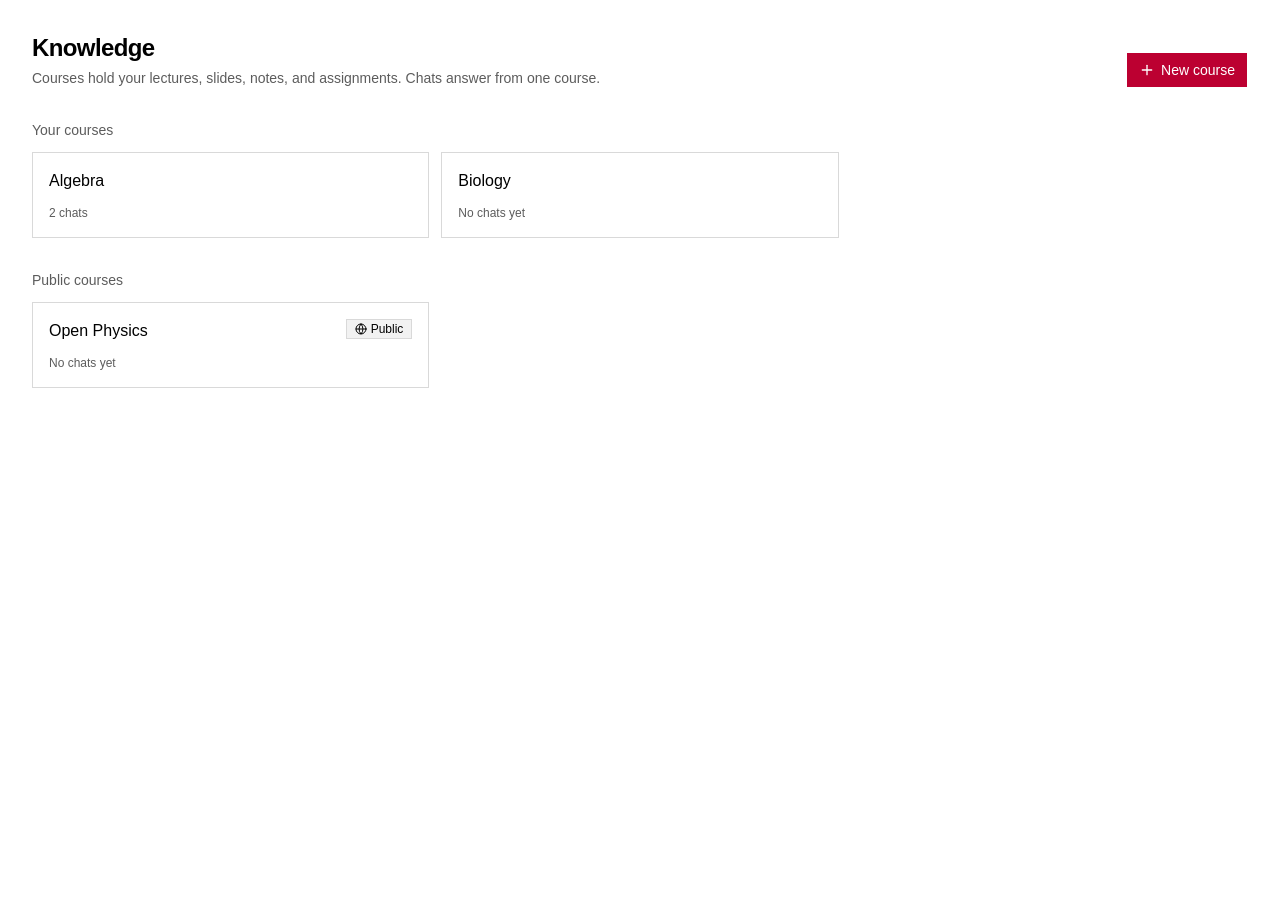
Test: KnowledgePage › creates a course and opens it
Click the button "New course": (1187, 70) [1126,52,1248,88]
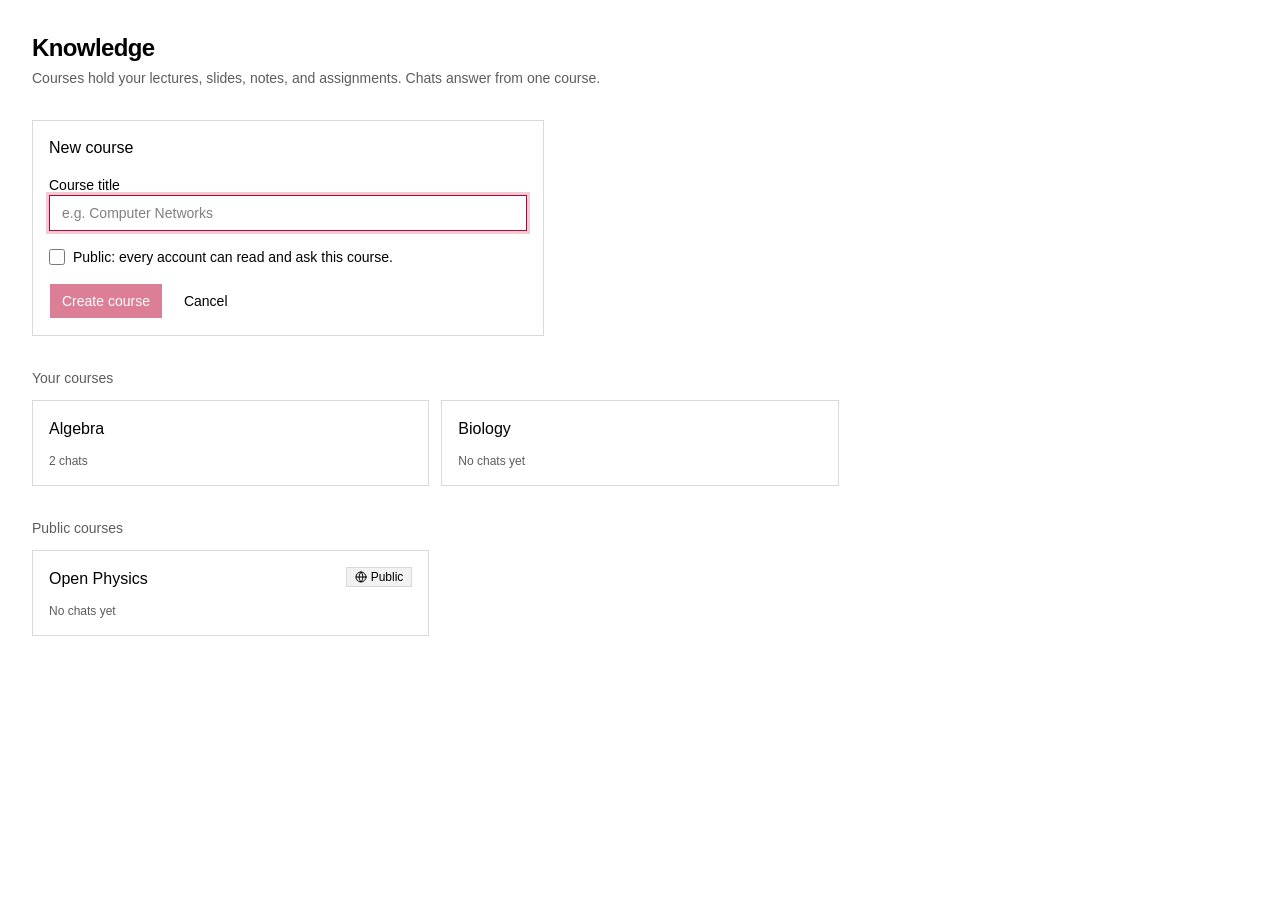
In the field labelled "Course title": (288, 213) [49,195,527,231], type "Networks"
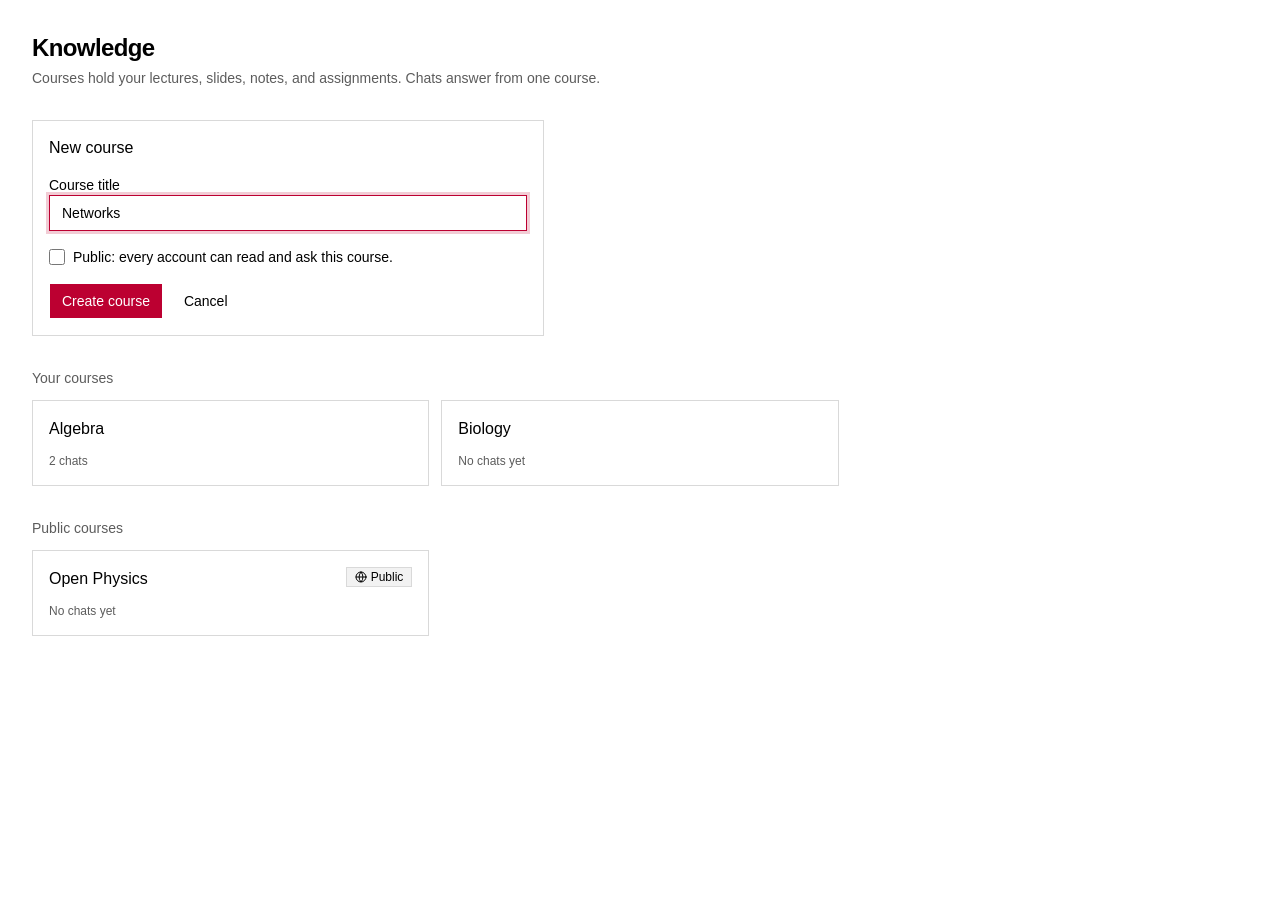
Click the checkbox named "Public course": (57, 257) [49,249,65,265]
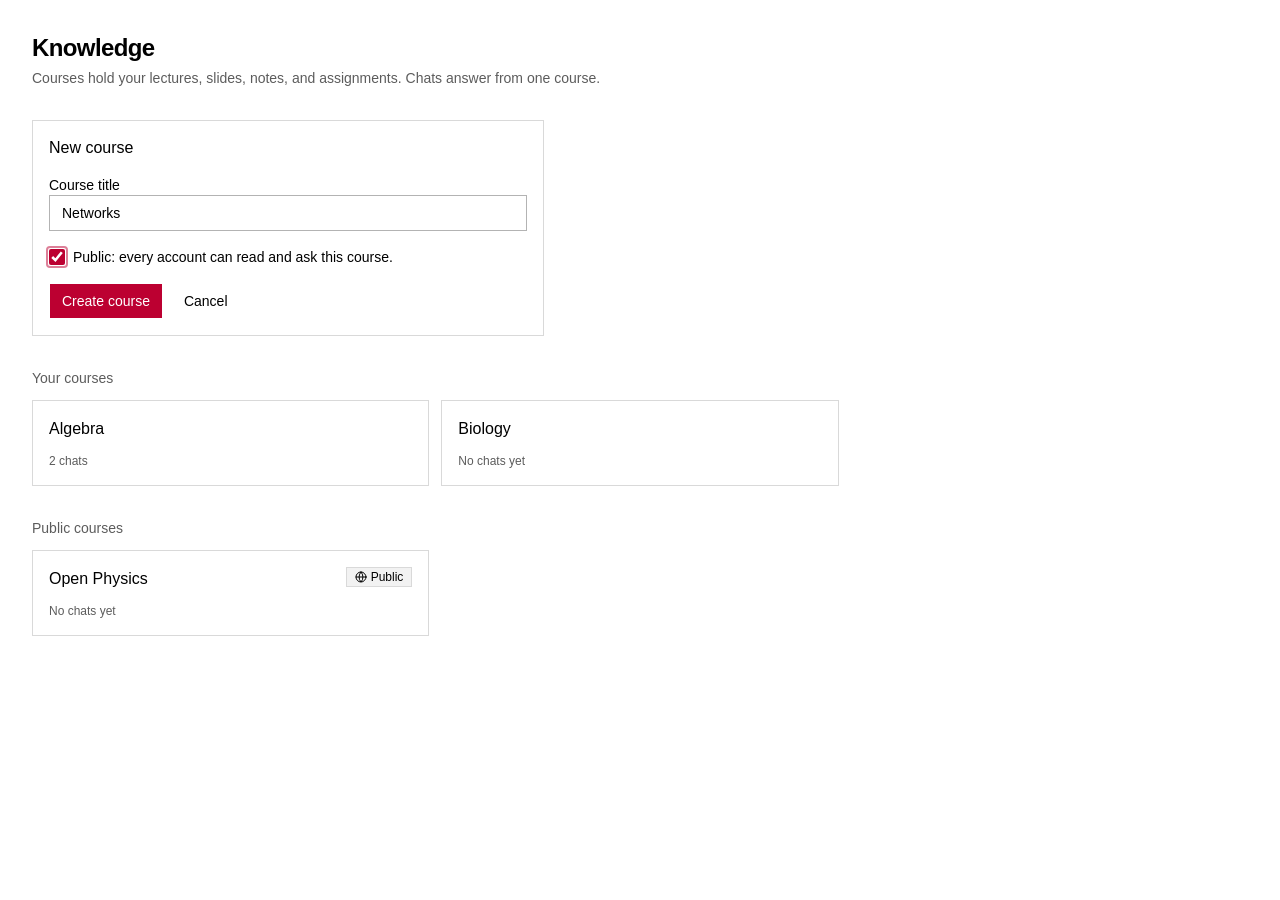
Click the button "Create course": (106, 301) [49,283,163,319]
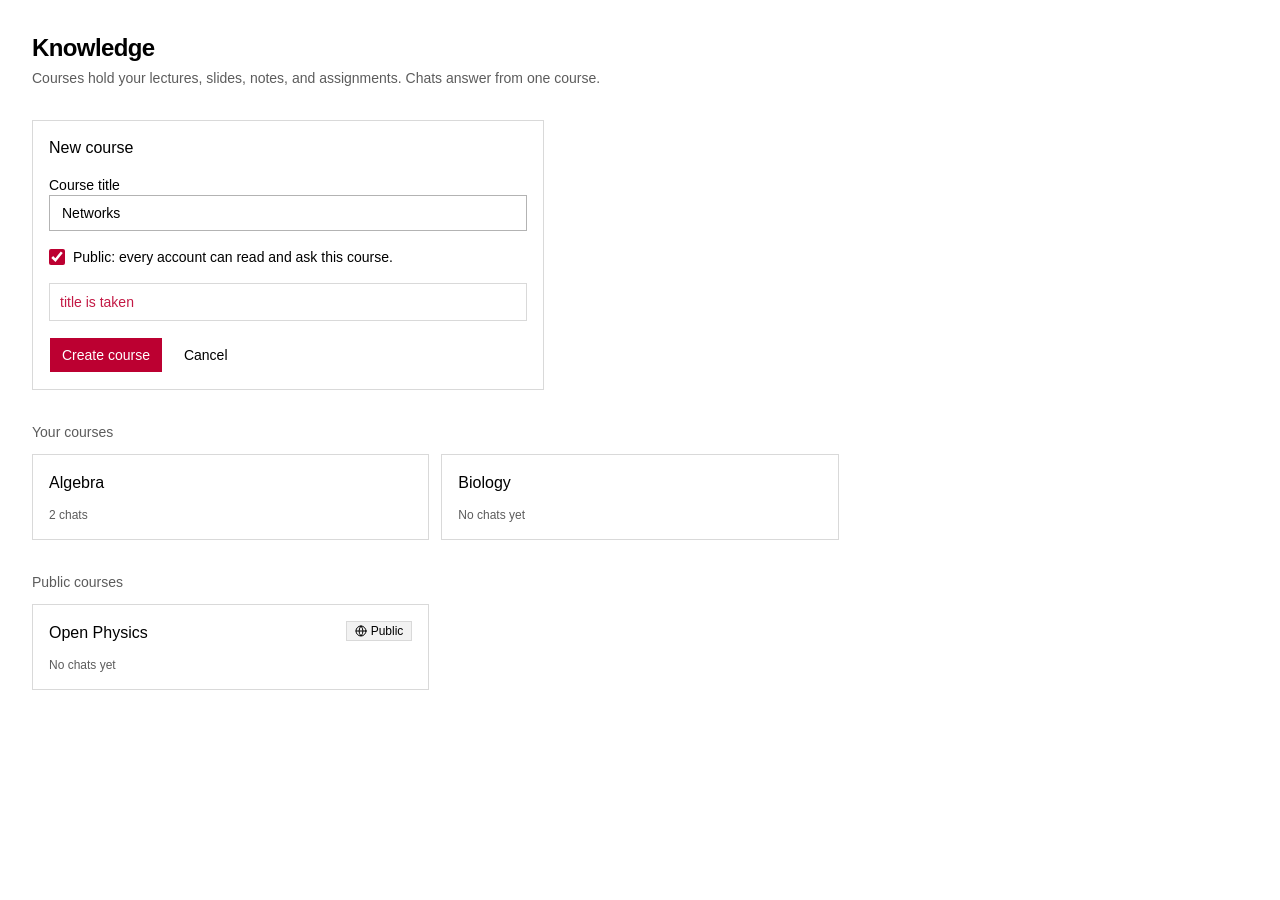
Now the message reads "title is taken", box [60,294,134,310]
Click the button "Create course": (106, 355) [49,337,163,373]
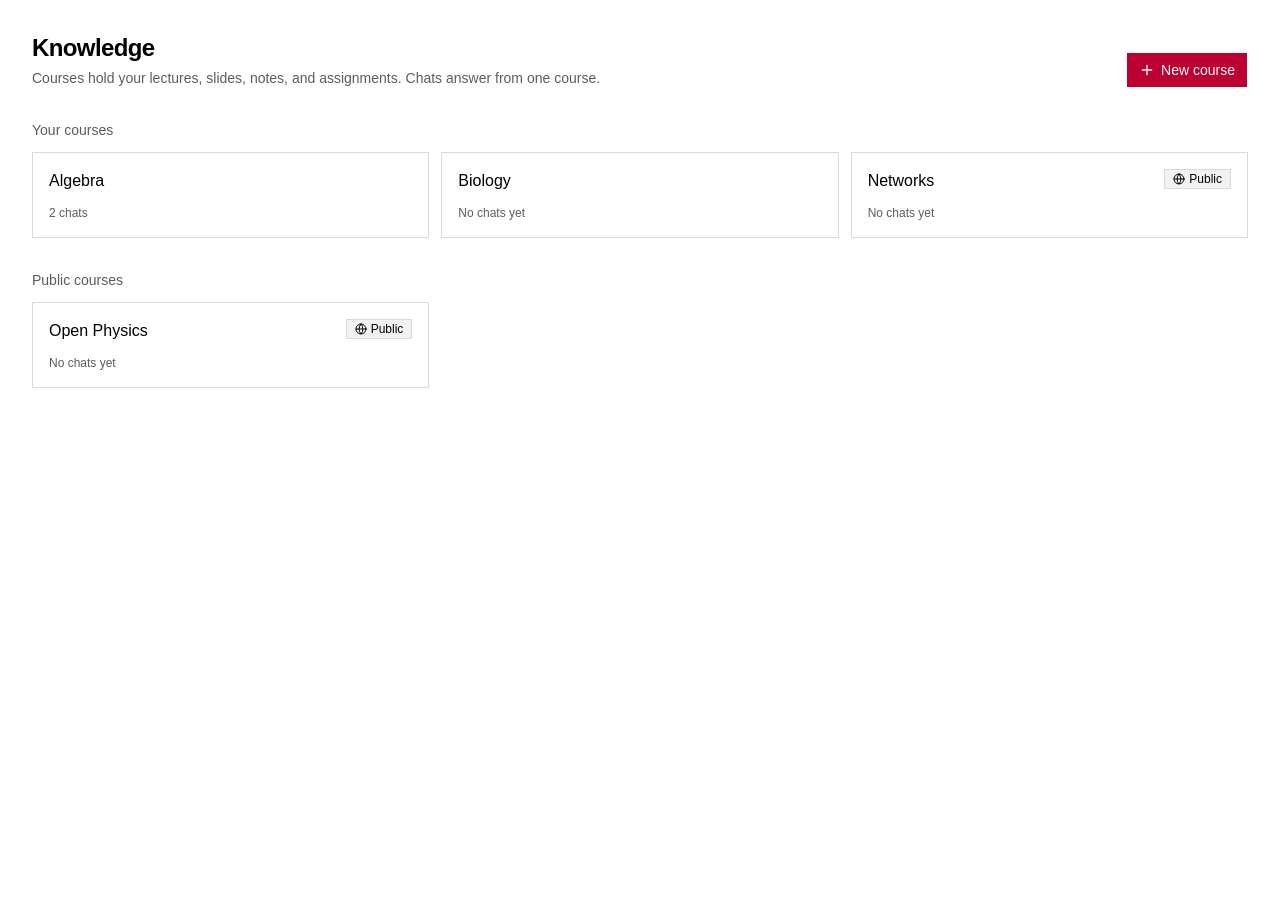
Now the link "Networks Public No chats yet" is shown, box [851,152,1248,238]
